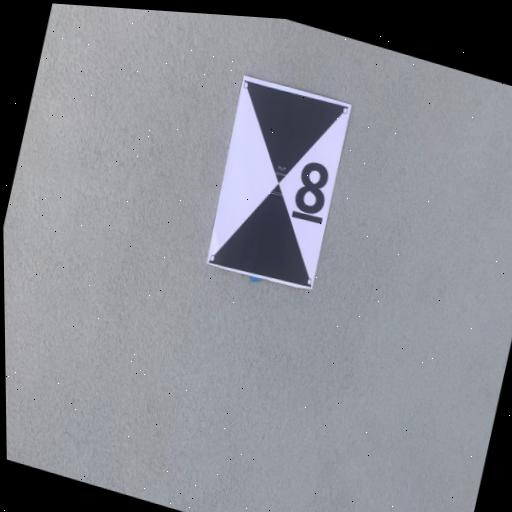target8: (207, 75, 352, 289)
